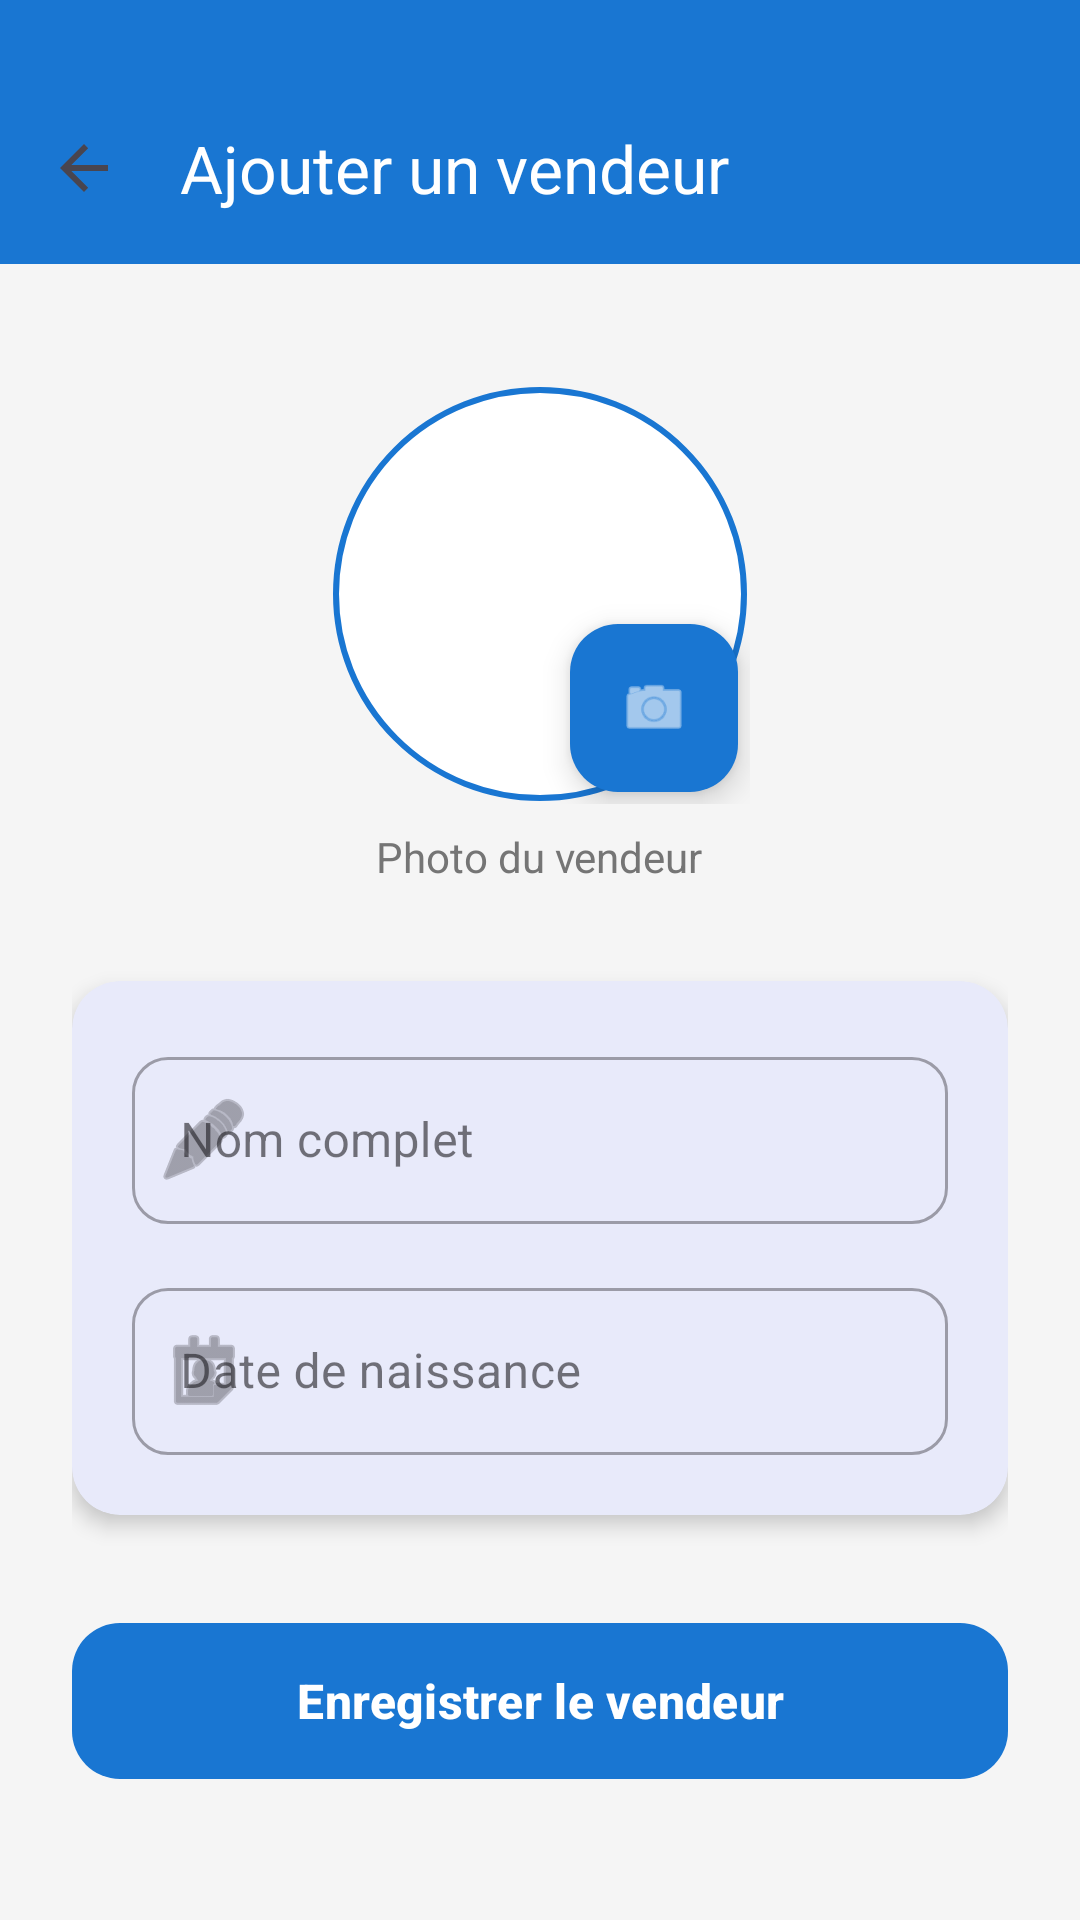

Screen size 1080*1920. Icon name, then its box in pixels as [x1=x1, y1=y1, x2=x2, y2=y2]:
camera: [x1=570, y1=624, x2=738, y2=792]
